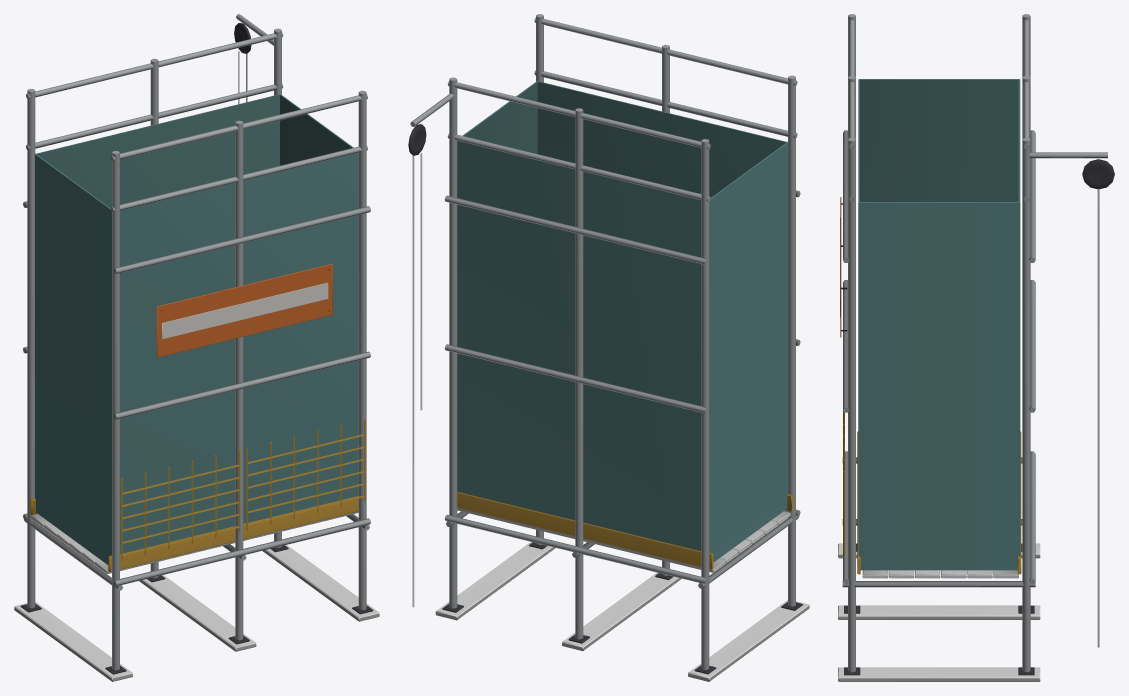
File: ScaffoldGantry.fbx
3 renders of one model, left to right at view 1: azimuth 30°, elevation 25°; view 2: azimuth 150°, elevation 25°; view 3: azimuth 270°, elevation 25°, orthographic. The views are drawn at different scales.
Visible parts, largest first — view 1: ScaffoldGantry; view 2: ScaffoldGantry; view 3: ScaffoldGantry.
Part boxes in pixels (<box>): ScaffoldGantry: <box>14,14,379,681</box>; ScaffoldGantry: <box>408,14,809,681</box>; ScaffoldGantry: <box>838,14,1114,681</box>.
Bounding box in the file's own units: 2.74 × 5.1 × 2.38.
